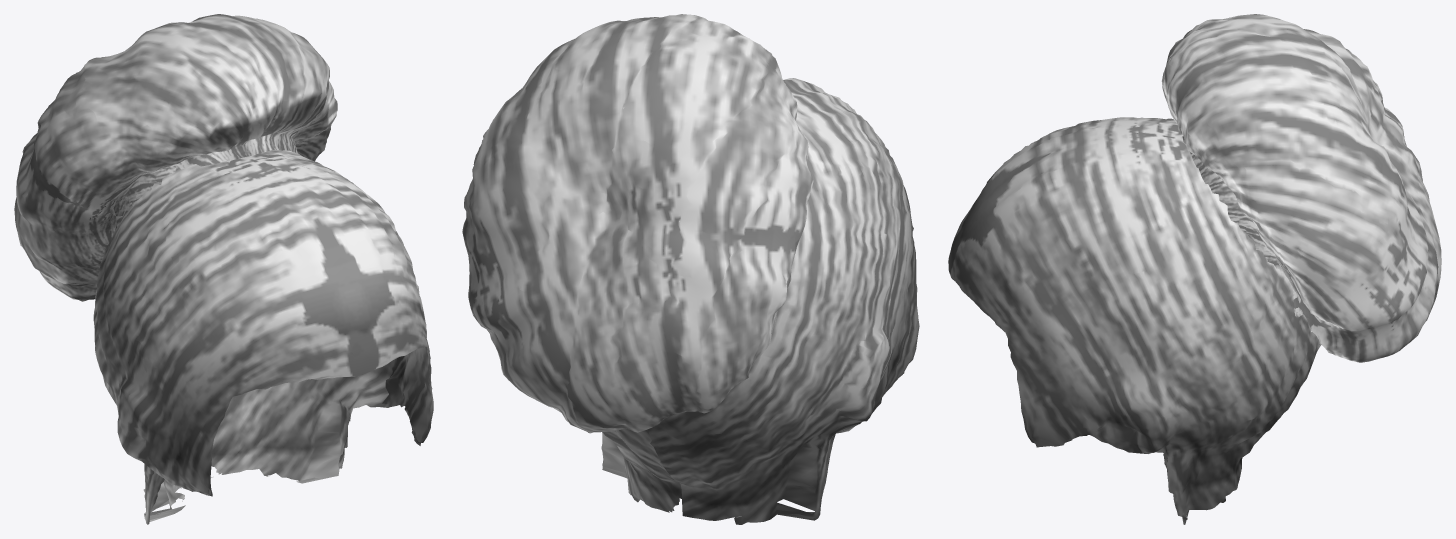
Rendered from daz_hair_crown_braid.glb.
3 renders of one model, left to right at view 1: azimuth 30°, elevation 25°; view 2: azimuth 150°, elevation 25°; view 3: azimuth 270°, elevation 25°, orthographic. The views are drawn at different scales.
Parts seen in each view (by area): view 1: daz_hair_crown_braid; view 2: daz_hair_crown_braid; view 3: daz_hair_crown_braid.
Boxes of the visible parts, x1,y1,x2,y2 form: daz_hair_crown_braid: (14, 14, 433, 524); daz_hair_crown_braid: (462, 14, 919, 524); daz_hair_crown_braid: (948, 14, 1441, 524).
Size of the model in its own units: 0.1689 by 0.2493 by 0.2487.
Materials: 1 (1 with a texture image).
